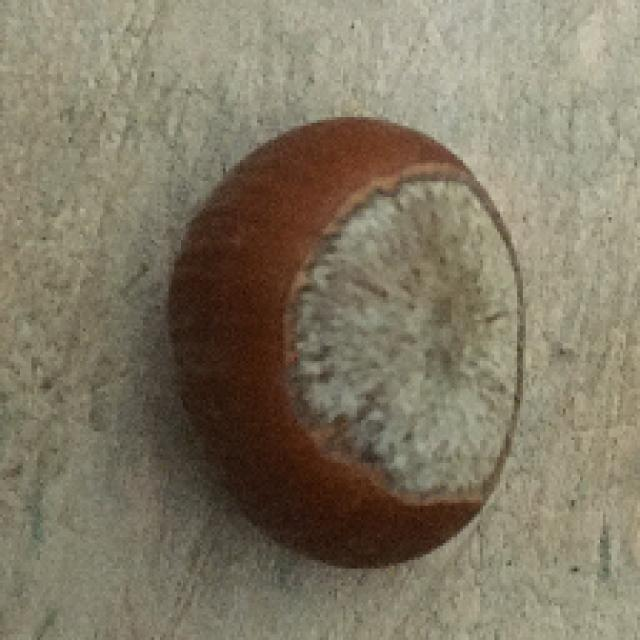qualityHazelnut: (163, 106, 532, 583)
